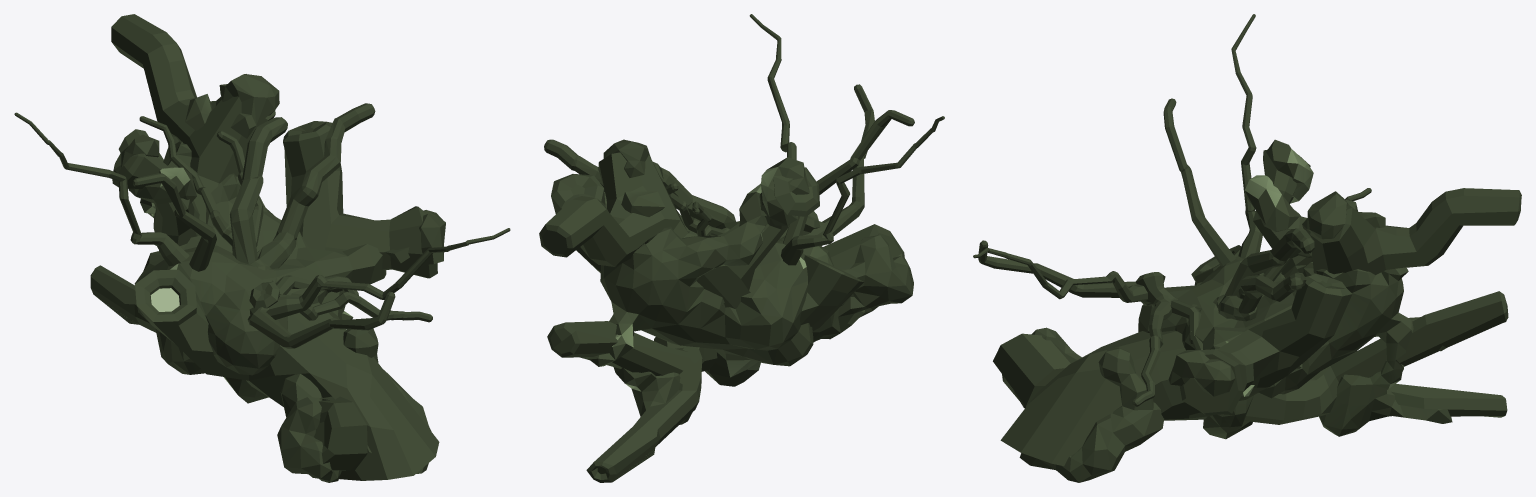
The model's file is EA_Swamp_Root_Mud_01b.glb.
The picture shows the model from 3 angles, left to right: view 1: azimuth 30°, elevation 25°; view 2: azimuth 150°, elevation 25°; view 3: azimuth 270°, elevation 25°; orthographic projection. The views are drawn at different scales.
Visible parts, largest first — view 1: EA_Swamp_Root_Mud_01b; view 2: EA_Swamp_Root_Mud_01b; view 3: EA_Swamp_Root_Mud_01b.
Part boxes in pixels (x1,y1,x2,y2): EA_Swamp_Root_Mud_01b: [14, 14, 510, 482]; EA_Swamp_Root_Mud_01b: [539, 14, 944, 482]; EA_Swamp_Root_Mud_01b: [973, 14, 1521, 482].
Bounding box in the file's own units: 4.78 × 4.02 × 5.95.
1 material, 1 textured.
